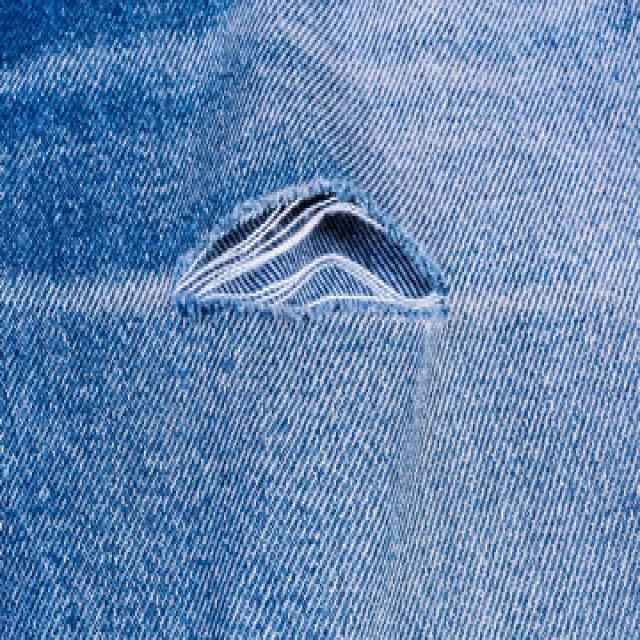Hole: (172, 179, 450, 319)
